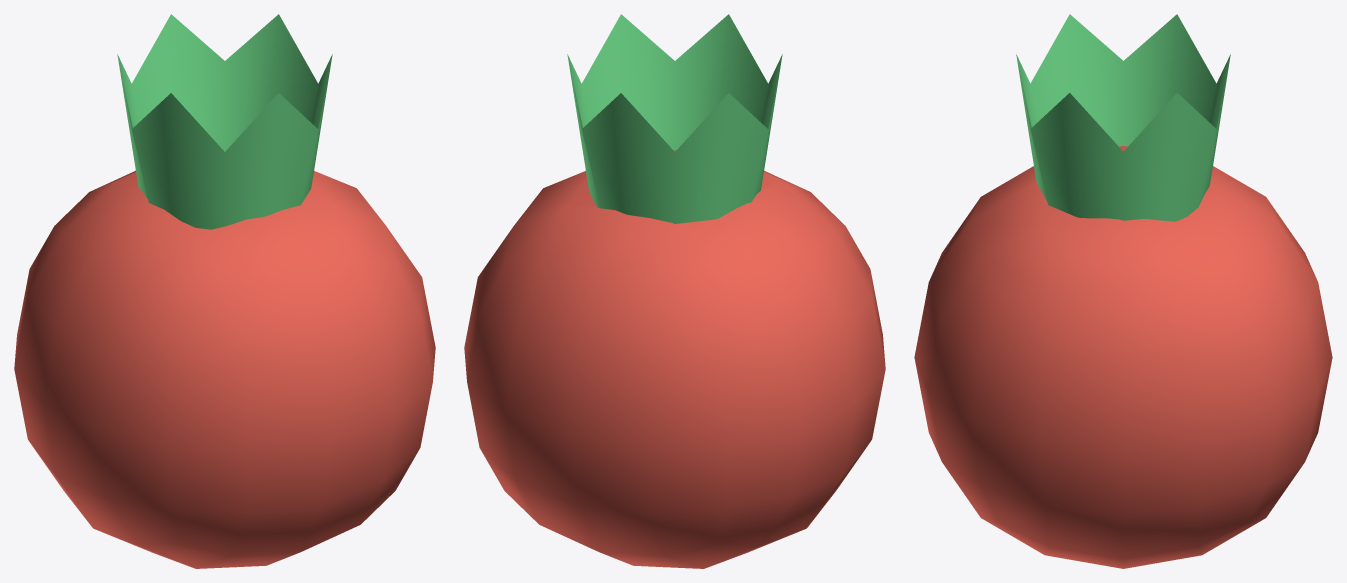
The model's file is Proto_Berry.fbx.
3 views of the same model, side by side, from view 1: azimuth 30°, elevation 25°; view 2: azimuth 150°, elevation 25°; view 3: azimuth 270°, elevation 25° (orthographic).
Parts seen in each view (by area): view 1: Cube; view 2: Cube; view 3: Cube.
Part boxes in pixels (x1=…): Cube: x1=14, y1=14, x2=435, y2=568; Cube: x1=464, y1=14, x2=885, y2=568; Cube: x1=914, y1=14, x2=1332, y2=568.
Bounding box in the file's own units: 81.8 × 107 × 81.8.
